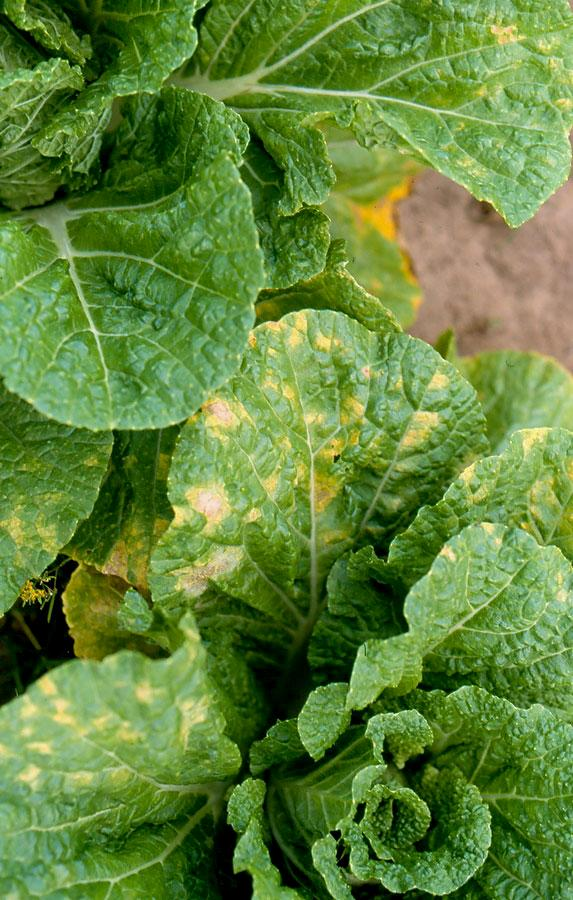Bok-Choy-Diseased: (146, 280, 495, 648), (0, 643, 251, 900)
